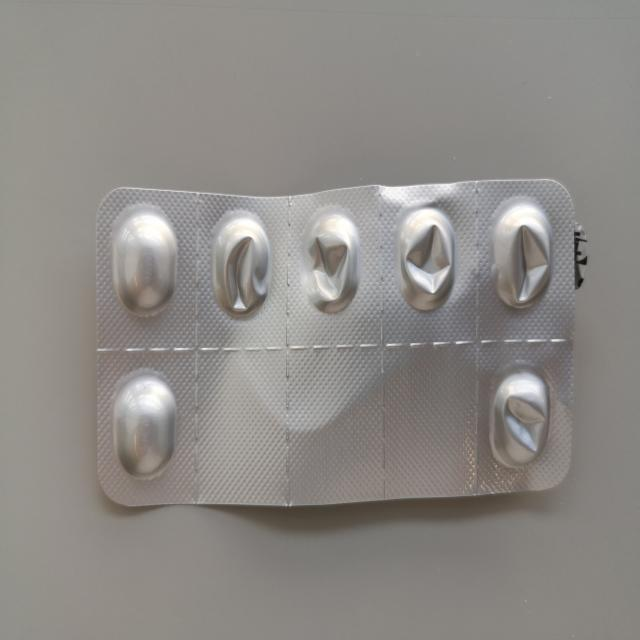Empty: (390, 194, 458, 324), (204, 206, 274, 322), (486, 198, 554, 314), (296, 206, 362, 318), (489, 362, 553, 476)
Pill: (109, 200, 179, 322), (106, 364, 180, 478)
